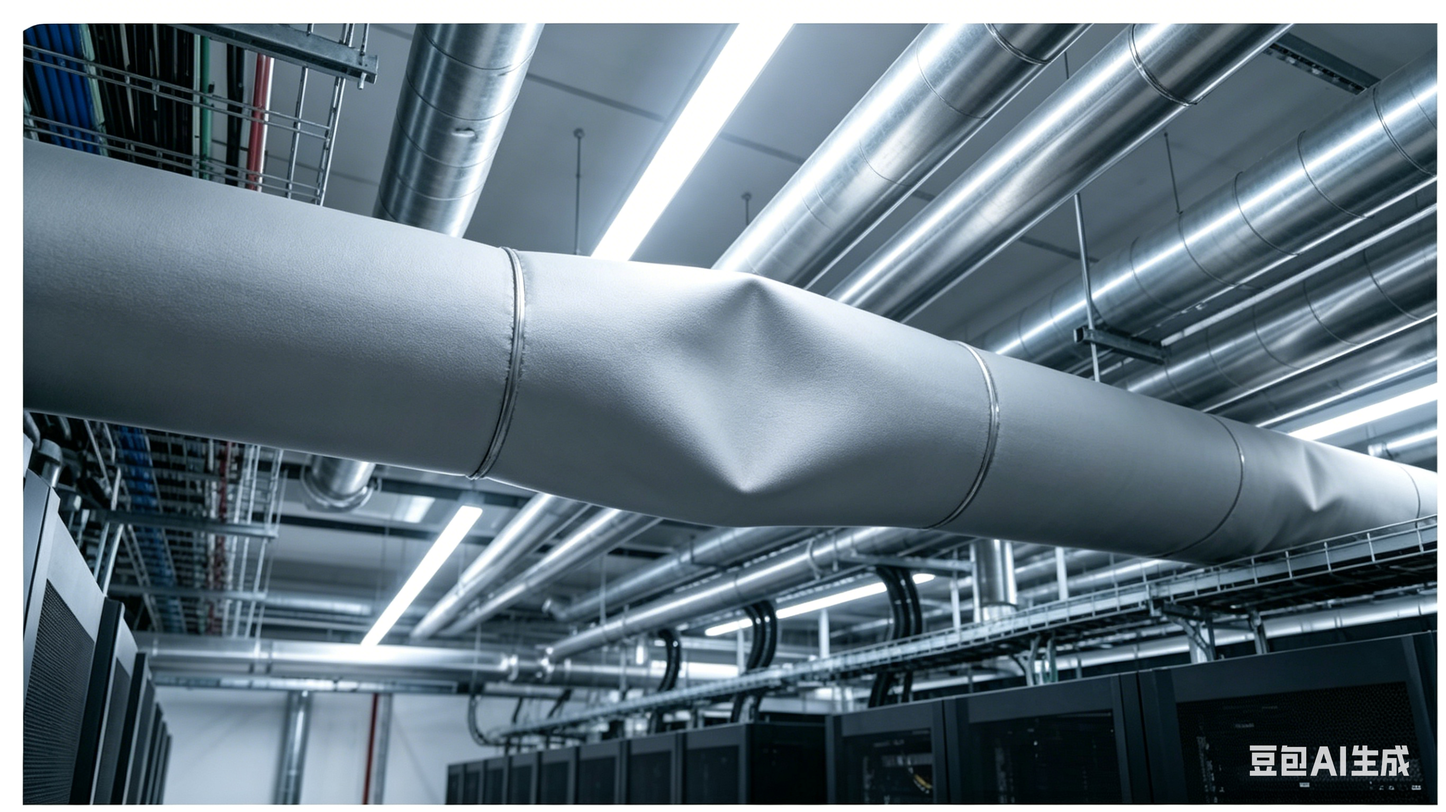Leakage: (615, 239, 858, 500), (1265, 420, 1351, 604)
